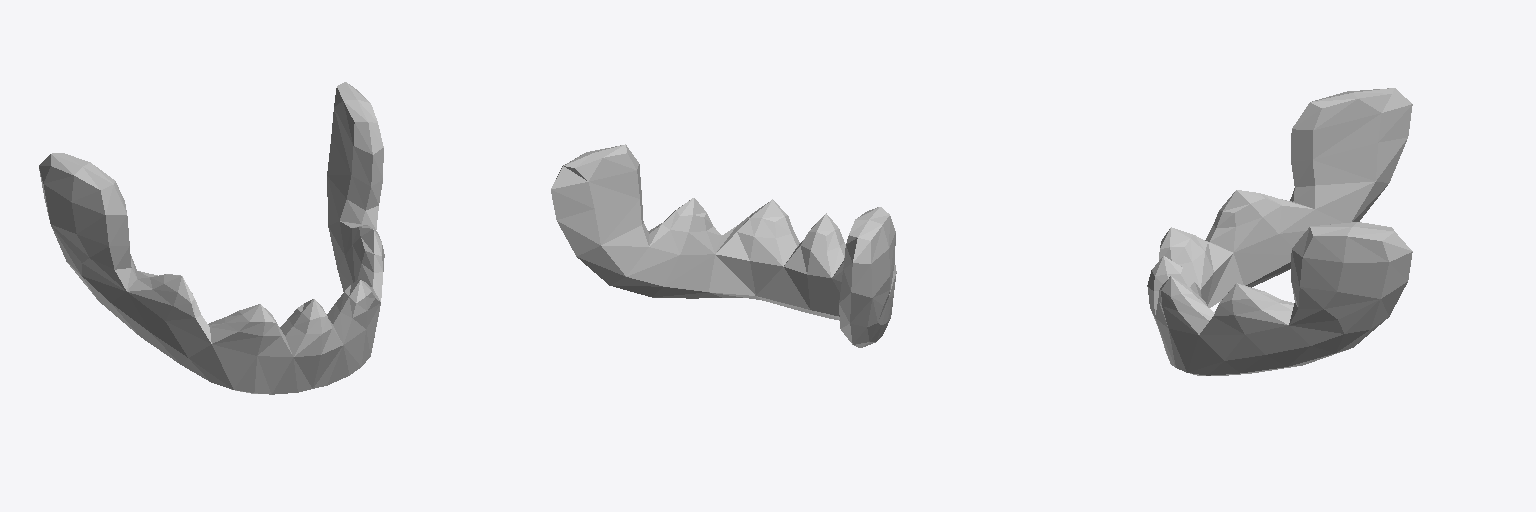
Rendered from character_skeletonKing_jaw.obj.
3 renders of one model, left to right at view 1: azimuth 30°, elevation 25°; view 2: azimuth 150°, elevation 25°; view 3: azimuth 270°, elevation 25°, orthographic.
Visible parts, largest first — view 1: character_skeletonKing_jaw_Cube.639; view 2: character_skeletonKing_jaw_Cube.639; view 3: character_skeletonKing_jaw_Cube.639.
Part boxes in pixels (x1,y1,x2,y2): character_skeletonKing_jaw_Cube.639: (39, 82, 384, 394); character_skeletonKing_jaw_Cube.639: (551, 144, 896, 347); character_skeletonKing_jaw_Cube.639: (1147, 88, 1412, 375).
Size of the model in its own units: 0.5473 by 0.3191 by 0.3982.